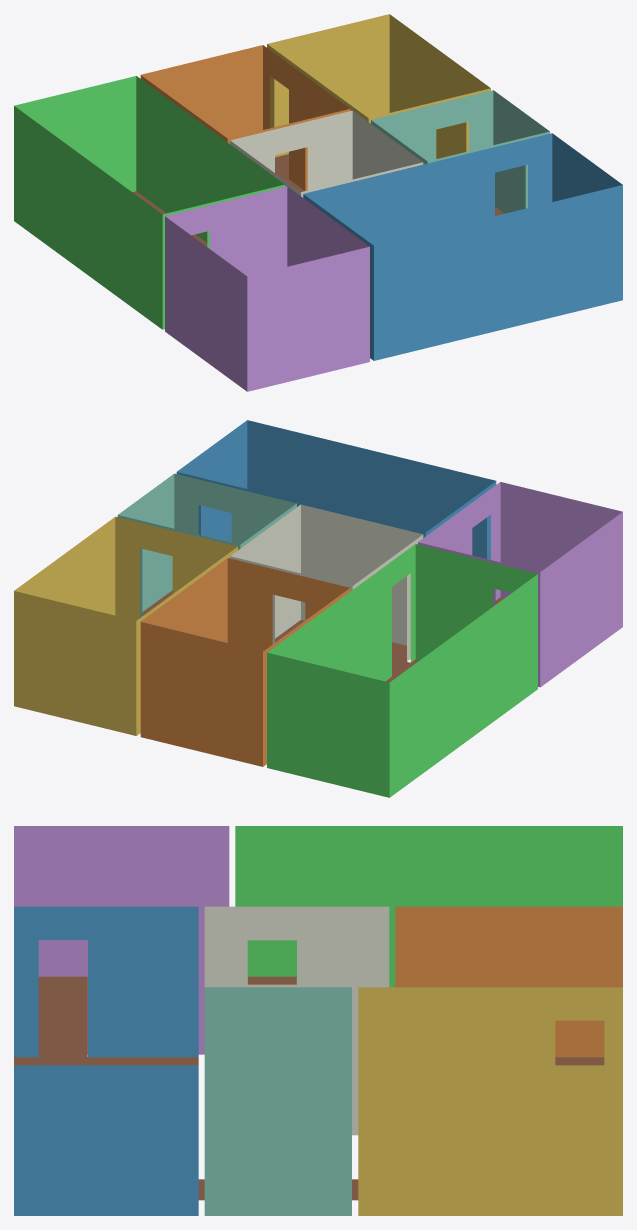
The model's file is Casa.fbx.
The picture shows the model from 3 angles, top to bottom: view 1: azimuth 30°, elevation 25°; view 2: azimuth 150°, elevation 25°; view 3: azimuth 270°, elevation 25°; orthographic projection. The views are drawn at different scales.
Visible parts, largest first — view 1: Casa+porte; view 2: Casa+porte; view 3: Casa+porte.
Part boxes in pixels (bbox=[...]): Casa+porte: bbox=[14, 14, 622, 391]; Casa+porte: bbox=[14, 420, 622, 797]; Casa+porte: bbox=[14, 826, 622, 1215].
Size of the model in its own units: 920 by 270 by 990.
